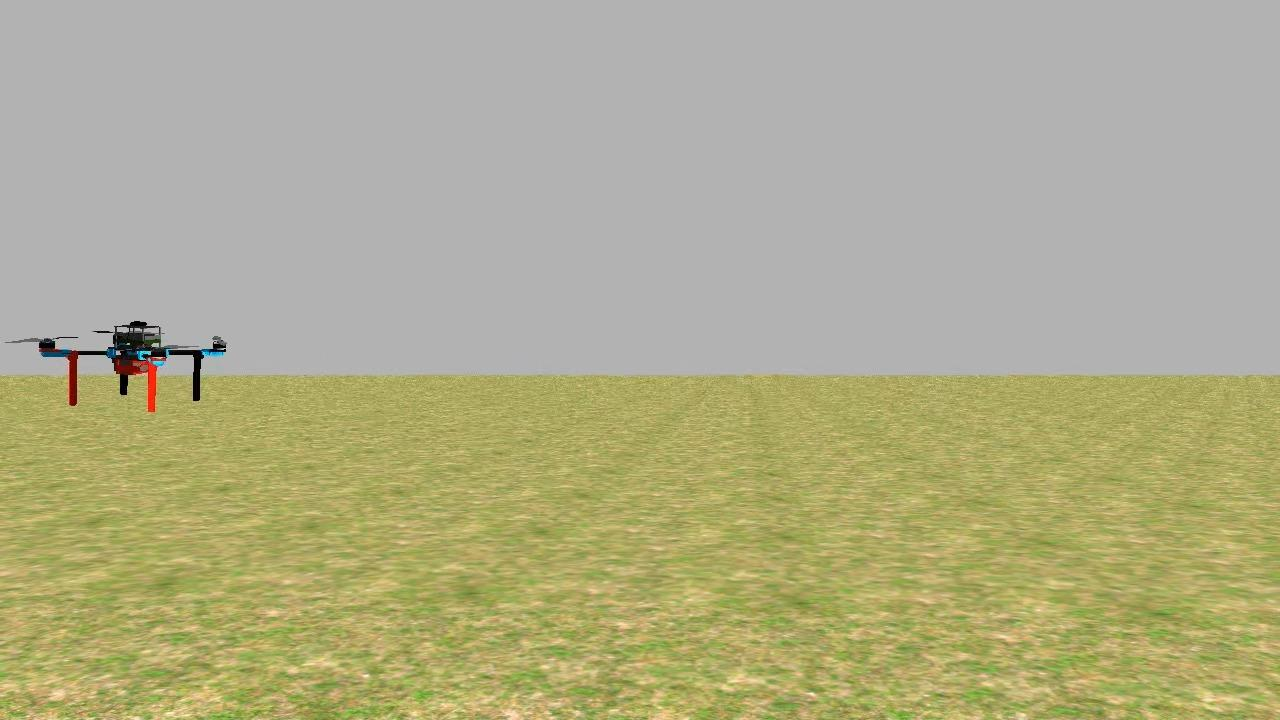UAV: (33, 308, 237, 423)
